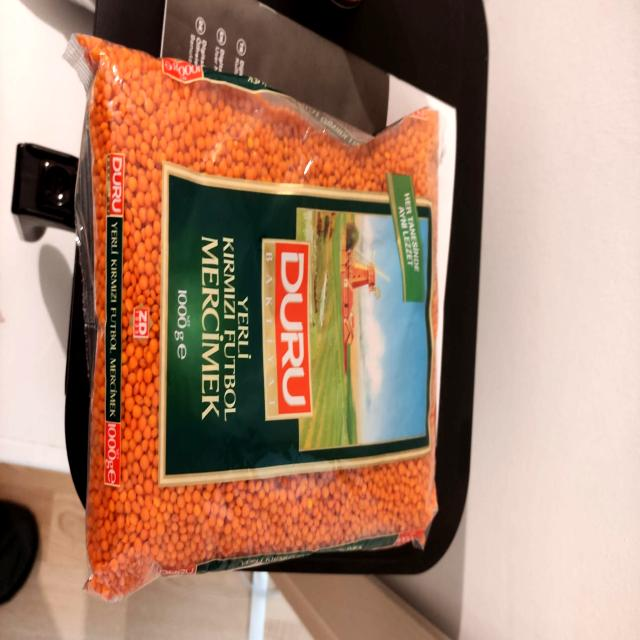red lentils: (86, 62, 453, 590)
